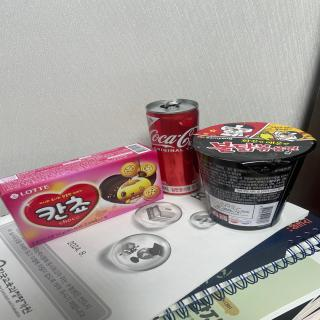cocacola: (142, 97, 217, 197)
